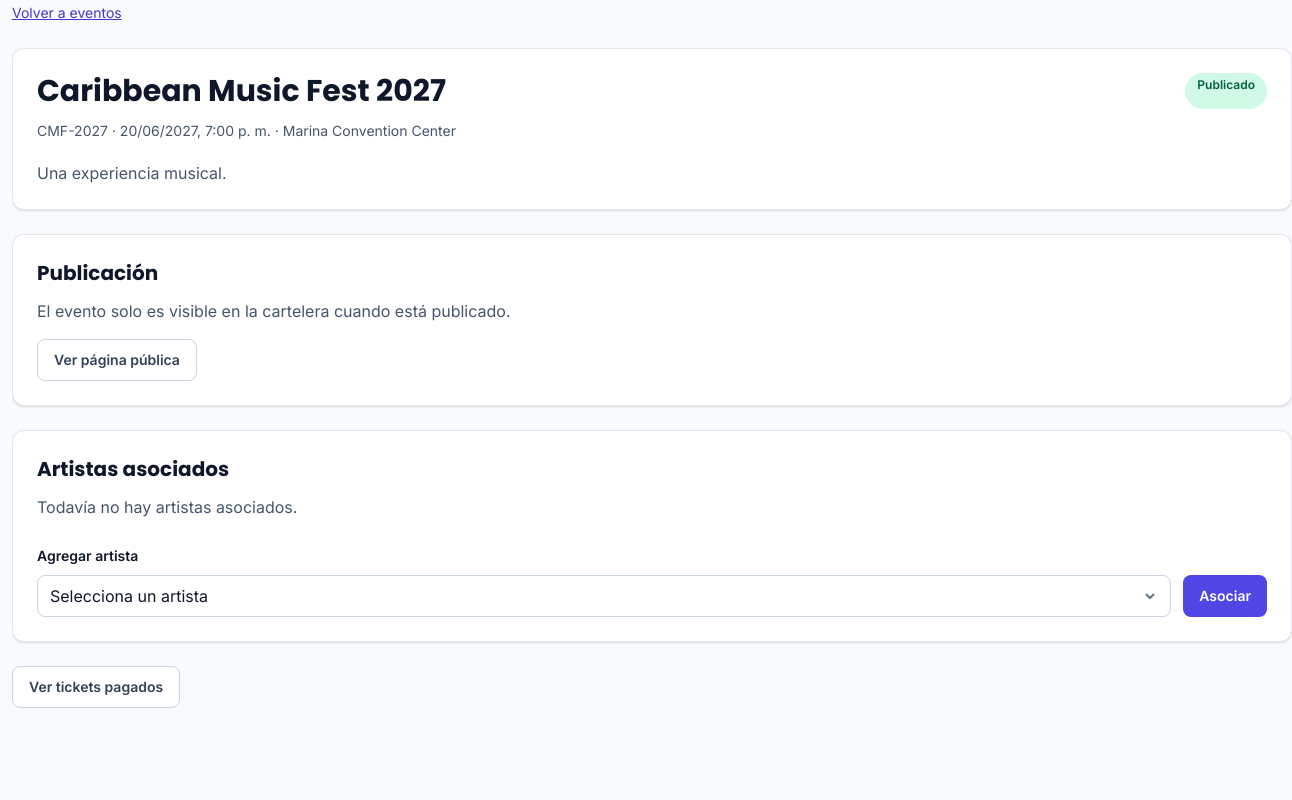
asociación duplicada 409 se conserva como aviso
Select "Solar Beat" in the dropdown labelled "Agregar artista". click: (604, 596)
box: [37,575,1171,617]
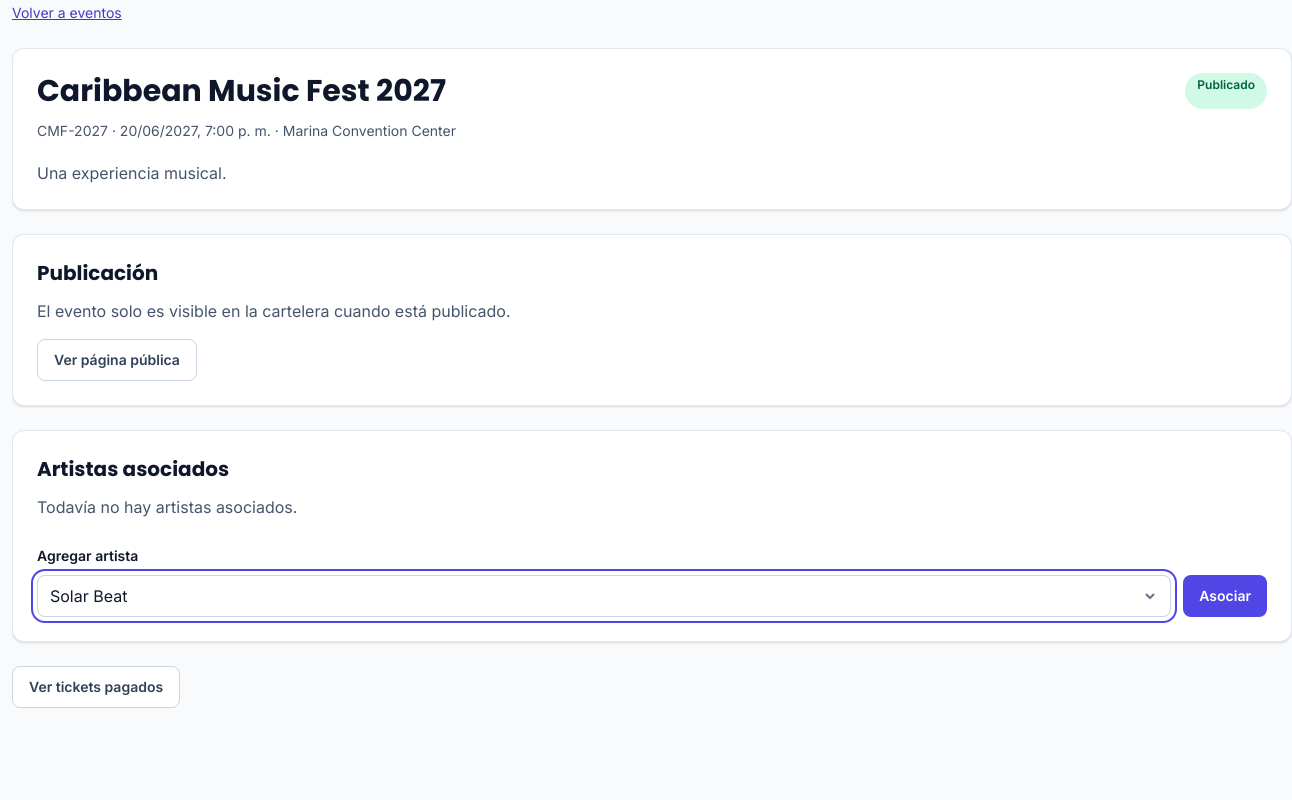
Click the button "Asociar". click: click(1225, 596)
box: [1183,575,1267,617]
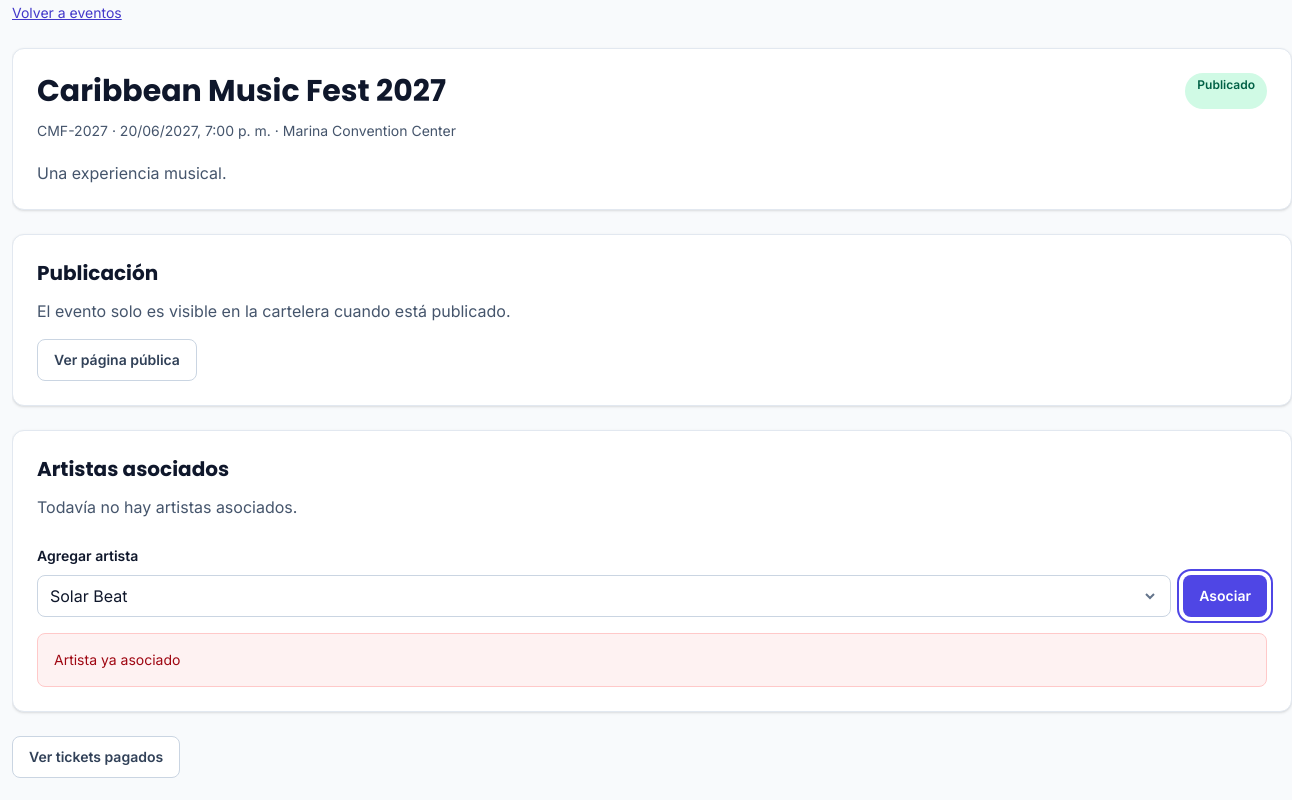
Expected: the text "Artista ya asociado" is shown, [37,633,1267,687]
